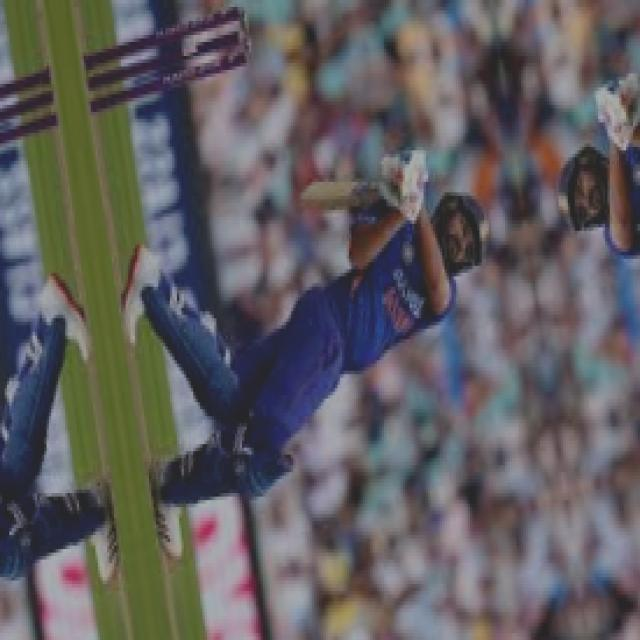toe: (299, 178, 331, 218)
